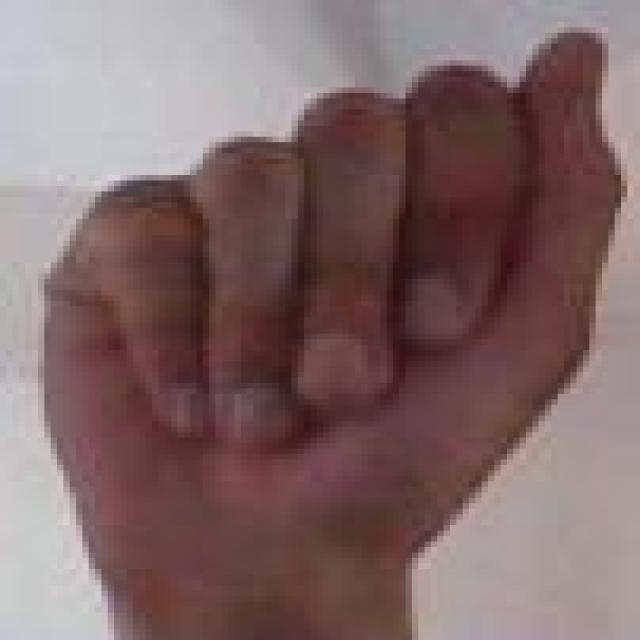A: (6, 5, 640, 624)
